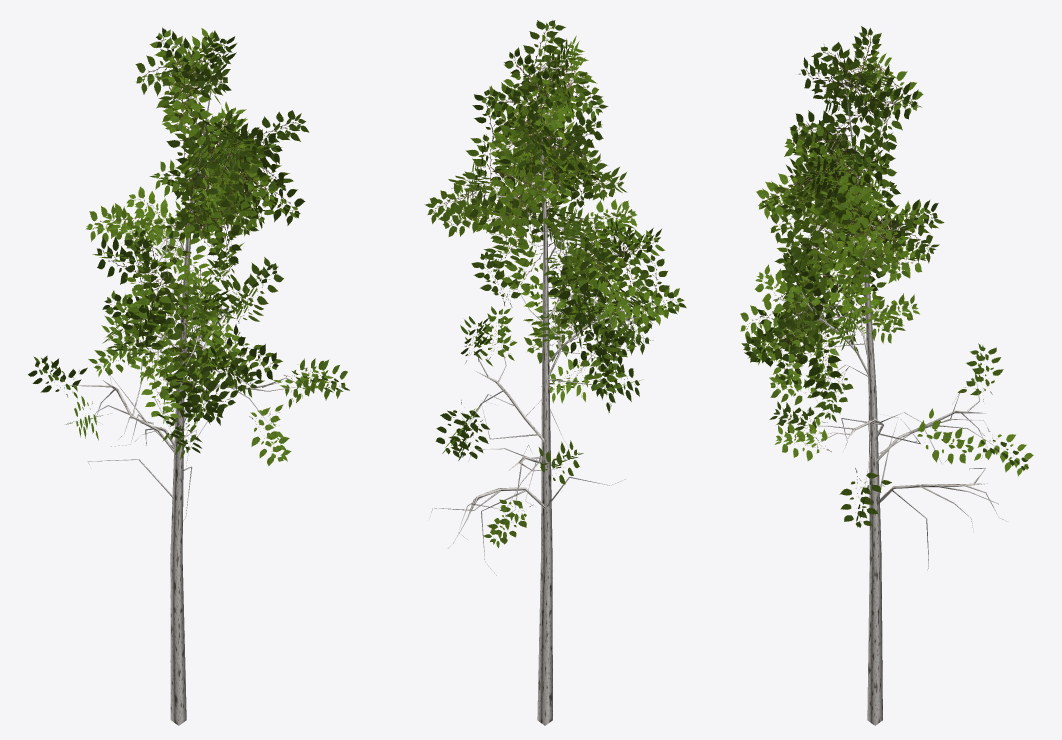
Rendered from birch_tree_2_lod2.gltf.
3 renders of one model, left to right at view 1: azimuth 30°, elevation 25°; view 2: azimuth 150°, elevation 25°; view 3: azimuth 270°, elevation 25°, orthographic. The views are drawn at different scales.
Visible parts, largest first — view 1: birch_tree_2_lod2; view 2: birch_tree_2_lod2; view 3: birch_tree_2_lod2.
Boxes of the visible parts, x1=… form: birch_tree_2_lod2: x1=28, y1=27, x2=349, y2=725; birch_tree_2_lod2: x1=424, y1=20, x2=686, y2=725; birch_tree_2_lod2: x1=740, y1=26, x2=1033, y2=725.
Bounding box in the file's own units: 3.24 × 8.8 × 3.63.
2 materials, 2 textured.
